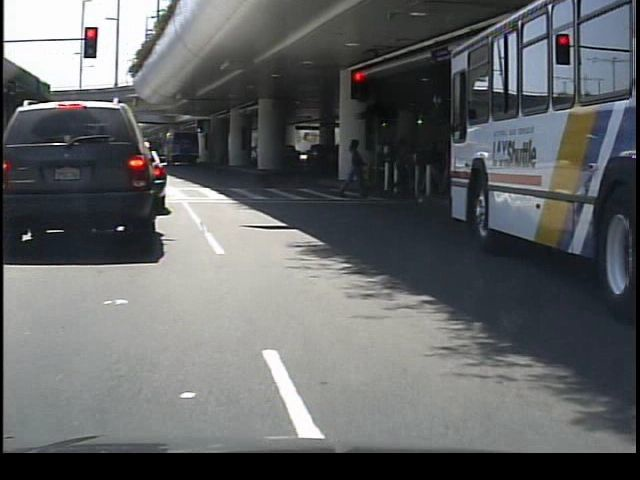person: (339, 136, 372, 201)
